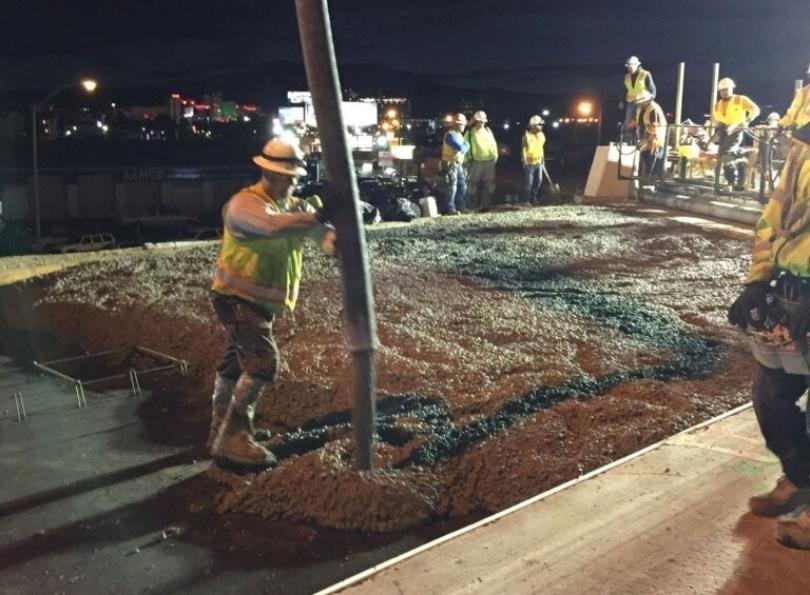Helmet: (255, 138, 310, 185)
Vest: (210, 188, 311, 307), (624, 70, 653, 104), (519, 130, 546, 165)
